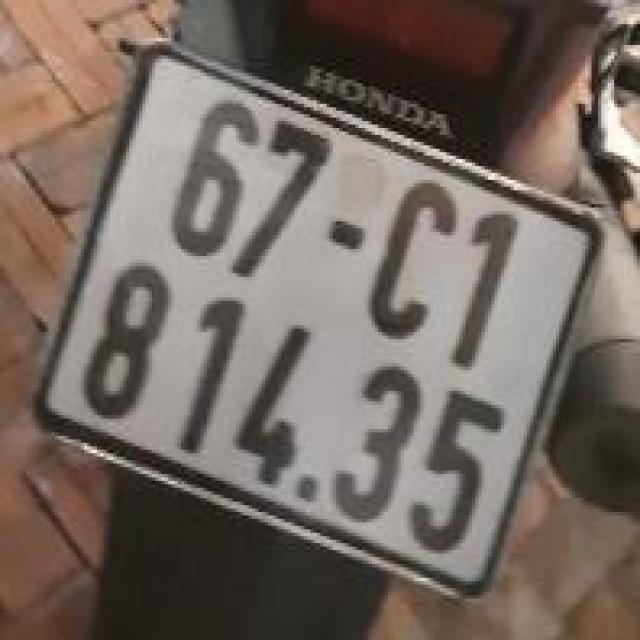1: (427, 191, 545, 381), (150, 286, 269, 470)
3: (315, 348, 441, 541)
4: (222, 308, 347, 493)
5: (395, 373, 524, 563)
6: (153, 86, 276, 271)
7: (216, 107, 354, 295)
8: (63, 249, 193, 433)
C: (349, 168, 477, 355)
